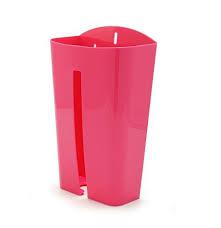Plastic: (45, 20, 156, 212)
